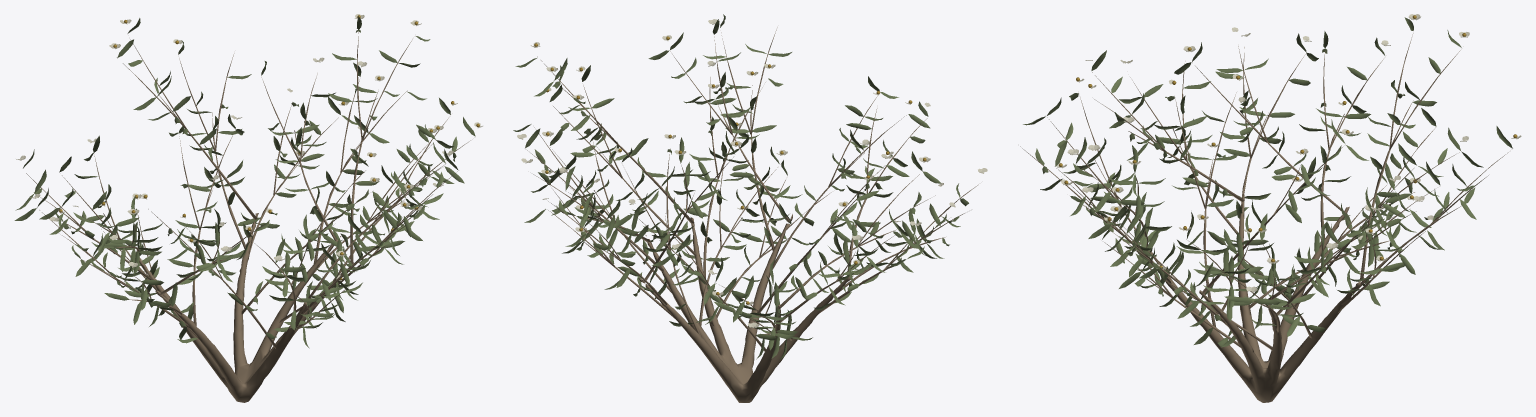
Rendered from Ciste_2_Niveau0.fbx.
3 views of the same model, side by side, from view 1: azimuth 30°, elevation 25°; view 2: azimuth 150°, elevation 25°; view 3: azimuth 270°, elevation 25° (orthographic). The views are drawn at different scales.
Parts seen in each view (by area): view 1: Ciste_2_Niveau0; view 2: Ciste_2_Niveau0; view 3: Ciste_2_Niveau0.
Boxes of the visible parts, bbox=[...] form: Ciste_2_Niveau0: bbox=[14, 14, 482, 402]; Ciste_2_Niveau0: bbox=[513, 14, 987, 402]; Ciste_2_Niveau0: bbox=[1020, 14, 1521, 402].
Size of the model in its own units: 93.22 by 70.83 by 90.17.
